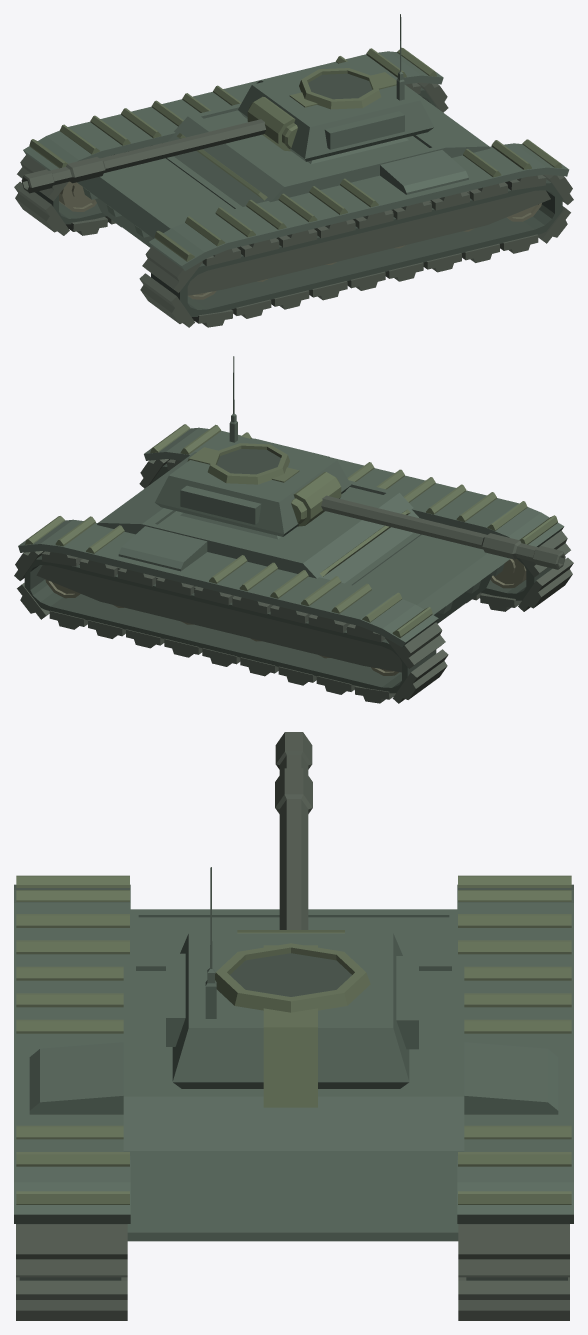
Rendered from tank-1.glb.
3 views of the same model, one above another, from view 1: azimuth 30°, elevation 25°; view 2: azimuth 150°, elevation 25°; view 3: azimuth 270°, elevation 25° (orthographic). The views are drawn at different scales.
Visible parts, largest first — view 1: Tank_body_Cube.009, Tank_Turret_Cube.002, TrackMesh.L_Cube.051, Tank_Gun_Cube.001, TrackMesh.R_Cube.000; view 2: Tank_body_Cube.009, Tank_Turret_Cube.002, TrackMesh.R_Cube.000, Tank_Gun_Cube.001, TrackMesh.L_Cube.051; view 3: Tank_body_Cube.009, Tank_Turret_Cube.002, TrackMesh.R_Cube.000, TrackMesh.L_Cube.051, Tank_Gun_Cube.001.
Boxes of the visible parts, left/top/right/bottom form: Tank_body_Cube.009: left=23, top=47, right=569, bottom=316; Tank_Turret_Cube.002: left=238, top=14, right=434, bottom=163; TrackMesh.L_Cube.051: left=139, top=174, right=573, bottom=327; Tank_Gun_Cube.001: left=21, top=119, right=266, bottom=193; TrackMesh.R_Cube.000: left=14, top=82, right=448, bottom=235; Tank_body_Cube.009: left=18, top=424, right=564, bottom=693; Tank_Turret_Cube.002: left=155, top=356, right=350, bottom=539; TrackMesh.R_Cube.000: left=14, top=551, right=448, bottom=703; Tank_Gun_Cube.001: left=321, top=495, right=565, bottom=569; TrackMesh.L_Cube.051: left=139, top=459, right=573, bottom=611; Tank_body_Cube.009: left=14, top=875, right=573, bottom=1280; Tank_Turret_Cube.002: left=166, top=867, right=418, bottom=1107; TrackMesh.R_Cube.000: left=458, top=1224, right=569, bottom=1320; TrackMesh.L_Cube.051: left=16, top=1224, right=127, bottom=1320; Tank_Gun_Cube.001: left=275, top=732, right=312, bottom=929.
Bounding box in the file's own units: 17.22 × 7.5 × 10.09.
